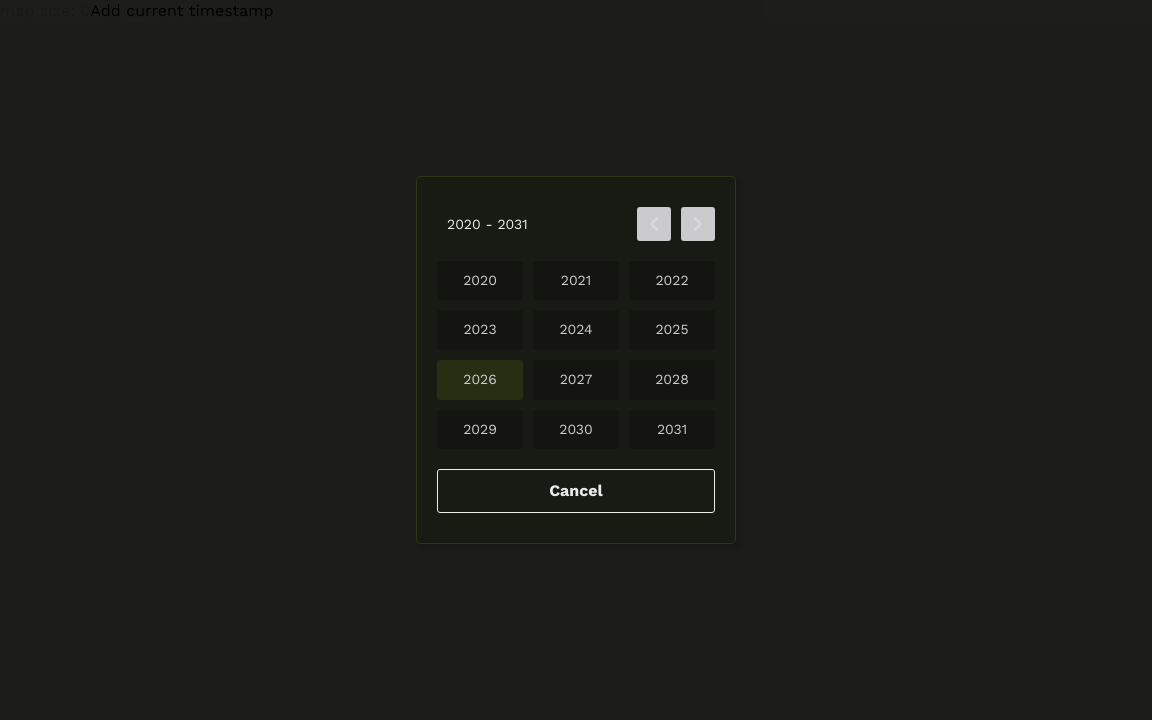
Test case: CalendarProvider › should update the startTimestampsMap when setStartTimestampsMap is used
Expected: the text "map size: 0" is shown, [0,1,90,20]
Click the button "Add current timestamp" at [182, 11], box [90,0,274,22]
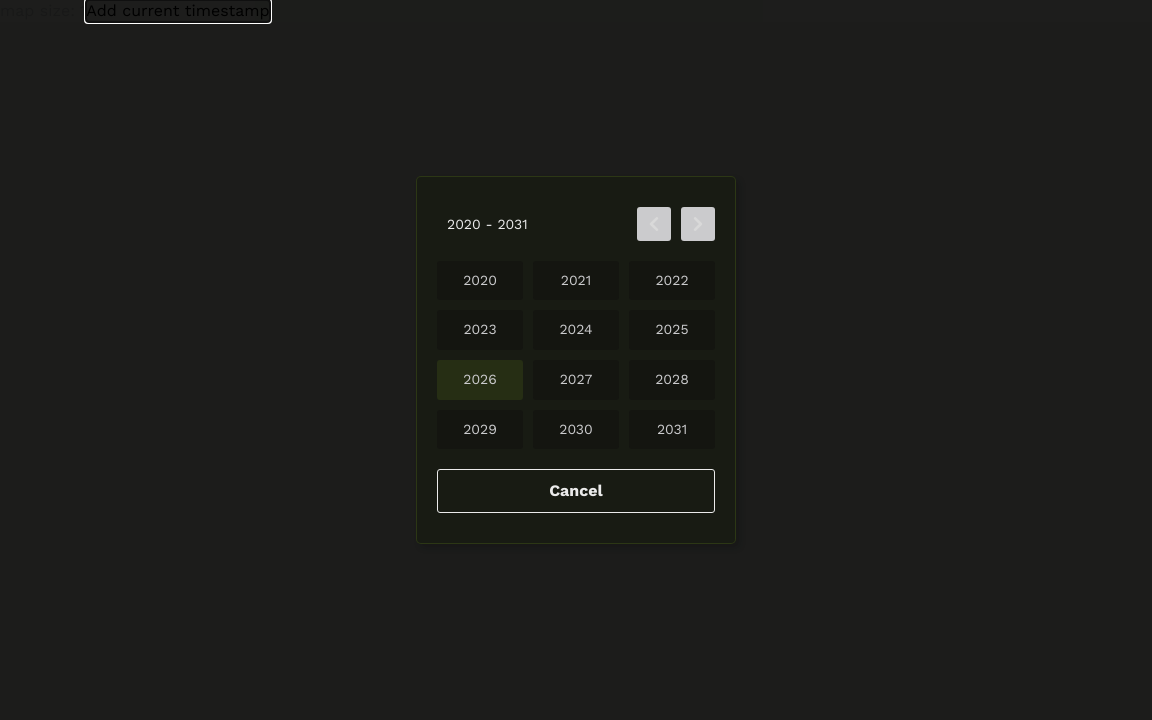
Now the text "map size: 1" is shown, box [0,1,86,20]
